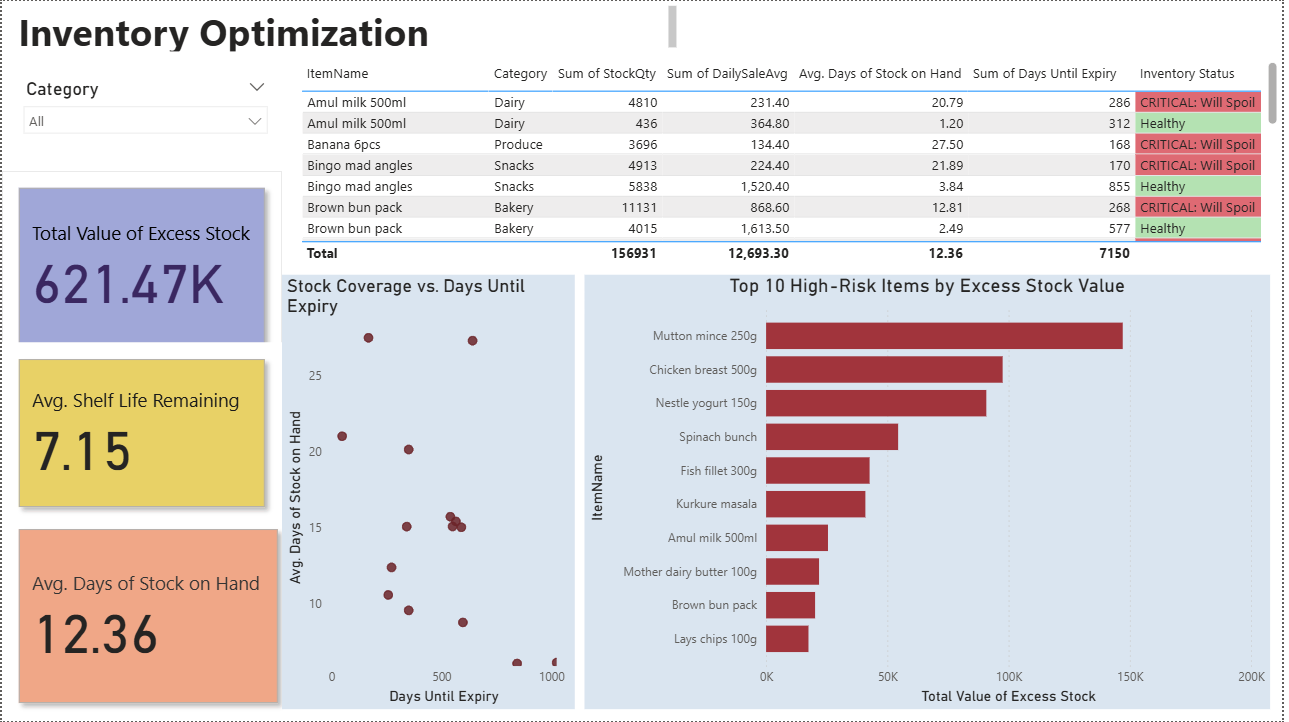

Layout of this report page (visuals, bound fields, positions):
{"tool":"powerbi","page":{"name":"Inventory Optimization","canvas":[1280,720],"ordinal":1},"visuals":[{"type":"cardVisual","fields":{"Data":["Waste_Dataset_Processed (1).Excess Stock Cost"]},"box":[0,170,280,190],"z":0},{"type":"cardVisual","fields":{"Data":["Waste_Dataset_Processed (1).Stock Coverage"]},"box":[0,511.2,293.8,208.8],"z":1000},{"type":"cardVisual","fields":{"Data":["Waste_Dataset_Processed (1).Avg Days to Expiry"]},"box":[0,341.4,280,182.9],"z":2000},{"type":"scatterChart","title":"Stock Coverage vs. Days Until Expiry","fields":{"X":["Sum(Waste_Dataset_Processed (1).DaysUntilExpiry)"],"Y":["Waste_Dataset_Processed (1).Stock Coverage"],"Category":["Waste_Dataset_Processed (1).ItemName"]},"box":[280,274.3,292.9,434.3],"z":3000},{"type":"clusteredBarChart","title":"Top 10 High-Risk Items by Excess Stock Value","fields":{"Category":["Waste_Dataset_Processed (1).ItemName"],"Y":["Waste_Dataset_Processed (1).Excess Stock Cost"]},"box":[582.9,274.3,685.7,434.3],"z":4000},{"type":"tableEx","fields":{"Values":["Waste_Dataset_Processed (1).ItemName","Waste_Dataset_Processed (1).Category","Sum(Waste_Dataset_Processed (1).StockQty)","Sum(Waste_Dataset_Processed (1).DailySaleAvg)","Waste_Dataset_Processed (1).Stock Coverage","Sum(Waste_Dataset_Processed (1).DaysUntilExpiry)","Waste_Dataset_Processed (1).Inventory Status"]},"box":[293.8,56.2,986.2,210],"z":5000},{"type":"slicer","fields":{"Values":["Waste_Dataset_Processed (1).Category"]},"box":[11.4,72.9,264.3,94.3],"z":6000},{"type":"textbox","box":[11.4,0,668.6,55.7],"z":7000}]}

Visuals, with their boxes in screenshot pixels (x1, y1, x2, y2), scaled from the page's 1280x720 canvas onto the 1289x722 screenshot:
cardVisual - Waste_Dataset_Processed (1).Excess Stock Cost: {"left": 0, "top": 170, "right": 282, "bottom": 361}
cardVisual - Waste_Dataset_Processed (1).Stock Coverage: {"left": 0, "top": 513, "right": 296, "bottom": 721}
cardVisual - Waste_Dataset_Processed (1).Avg Days to Expiry: {"left": 0, "top": 342, "right": 282, "bottom": 526}
"Stock Coverage vs. Days Until Expiry" scatterChart: {"left": 282, "top": 275, "right": 577, "bottom": 711}
"Top 10 High-Risk Items by Excess Stock Value" clusteredBarChart: {"left": 587, "top": 275, "right": 1278, "bottom": 711}
tableEx - Waste_Dataset_Processed (1).ItemName x Waste_Dataset_Processed (1).Category: {"left": 296, "top": 56, "right": 1288, "bottom": 267}
slicer - Waste_Dataset_Processed (1).Category: {"left": 11, "top": 73, "right": 278, "bottom": 168}
textbox: {"left": 11, "top": 0, "right": 685, "bottom": 56}
